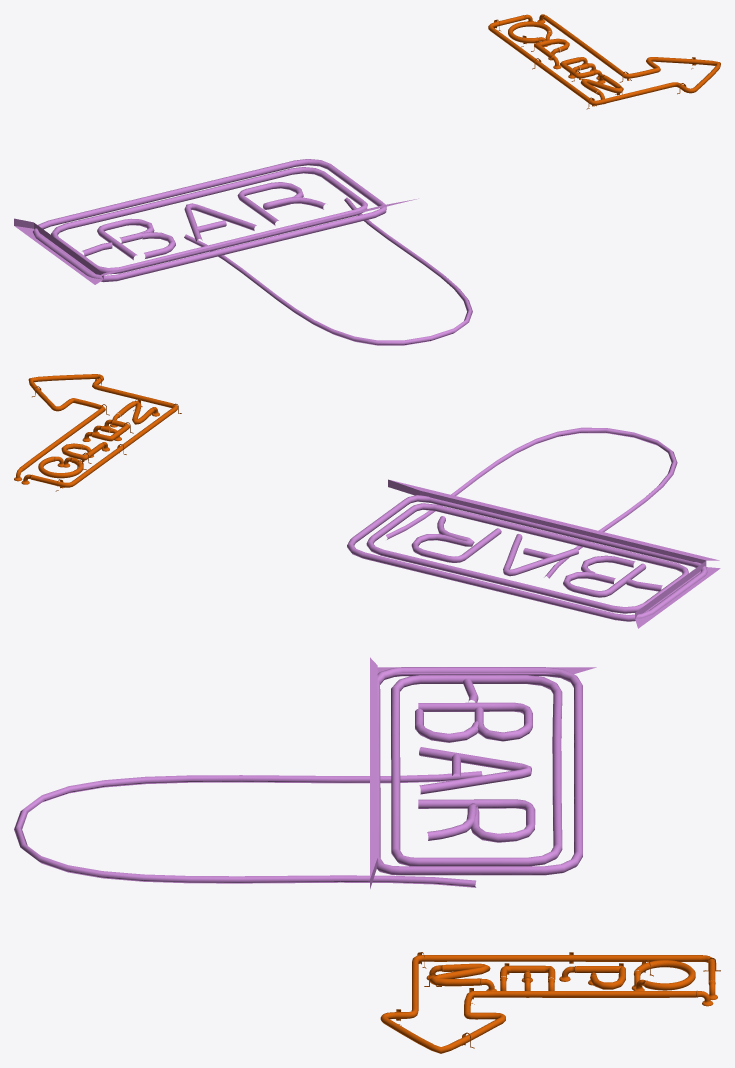
Rendered from ISG_NEONS_02.glb.
The picture shows the model from 3 angles, top to bottom: view 1: azimuth 30°, elevation 25°; view 2: azimuth 150°, elevation 25°; view 3: azimuth 270°, elevation 25°; orthographic projection. The views are drawn at different scales.
Parts seen in each view (by area): view 1: Neon_lights.005, Neon_lights.045; view 2: Neon_lights.005, Neon_lights.045; view 3: Neon_lights.005, Neon_lights.045.
Part boxes in pixels (x1=…): Neon_lights.005: x1=14, y1=159, x2=472, y2=345; Neon_lights.045: x1=488, y1=14, x2=720, y2=109; Neon_lights.005: x1=347, y1=427, x2=720, y2=628; Neon_lights.045: x1=14, y1=374, x2=181, y2=491; Neon_lights.005: x1=14, y1=657, x2=596, y2=888; Neon_lights.045: x1=380, y1=952, x2=720, y2=1053.
Size of the model in its own units: 5.17 by 0.486 by 3.47.
